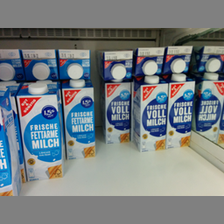milk: (15, 81, 65, 179), (61, 80, 99, 158), (133, 73, 166, 153), (166, 75, 195, 149), (103, 83, 132, 146)
